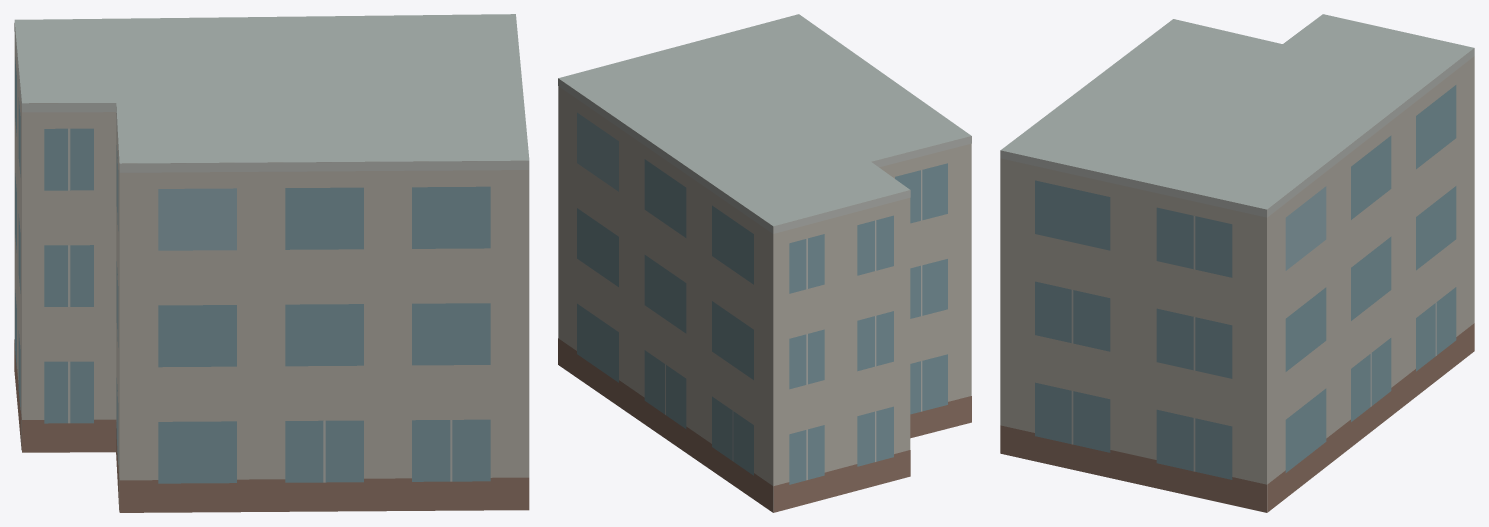
Rendered from survey-upis-32716654.glb.
3 renders of one model, left to right at view 1: azimuth 30°, elevation 25°; view 2: azimuth 150°, elevation 25°; view 3: azimuth 270°, elevation 25°, orthographic. The views are drawn at different scales.
Parts seen in each view (by area): view 1: survey-upis-32716654.tmp; view 2: survey-upis-32716654.tmp; view 3: survey-upis-32716654.tmp.
Part boxes in pixels (left/top/right/bottom): survey-upis-32716654.tmp: left=14, top=14, right=529, bottom=512; survey-upis-32716654.tmp: left=558, top=14, right=971, bottom=512; survey-upis-32716654.tmp: left=1000, top=14, right=1474, bottom=512.
Bounding box in the file's own units: 12.67 × 9.15 × 12.97.
